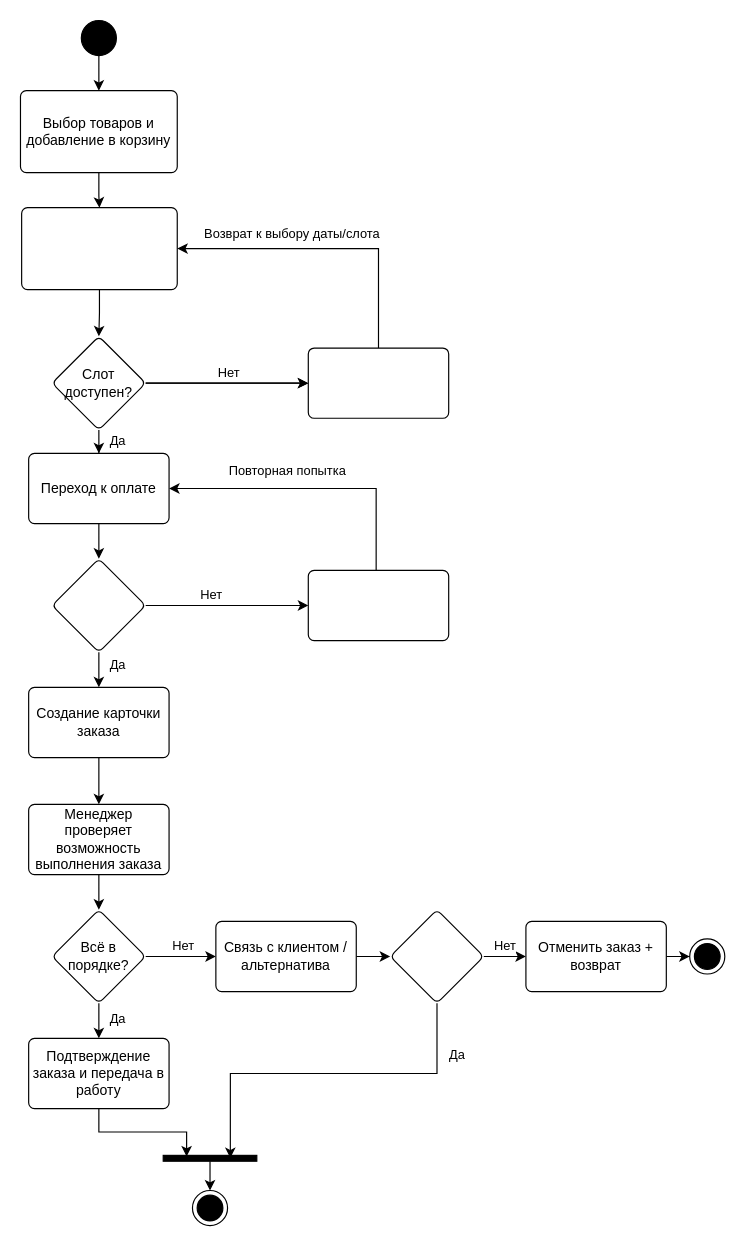
The diagram is 745 pixels wide and 1246 high, and some of its shapes have lost their labels. The shapes that lost their labels are listed below. From the top down, each one's centre as x and y in pixels, then its label:
pixel 98 248: Выбор даты/слота
pixel 378 382: Сообщение клиенту: "Выберите другой слот"
pixel 98 605: Оплата успешна?
pixel 378 605: Статус заказа: "Ожидает оплаты"
pixel 436 956: Клиент согласен?
